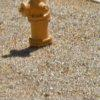Hydrant: (14, 0, 61, 50)
